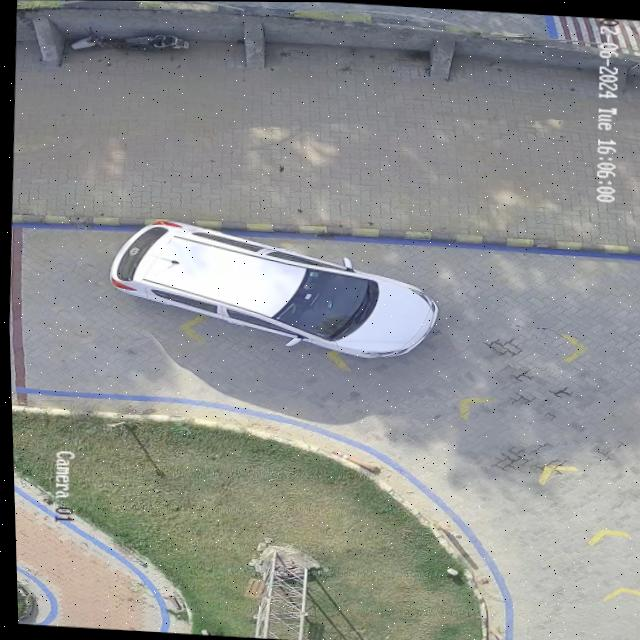car: (106, 226, 434, 357)
